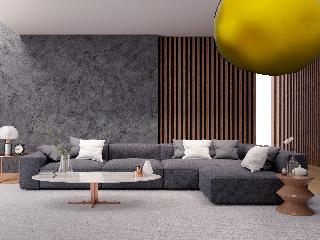lemon: (215, 0, 320, 76)
